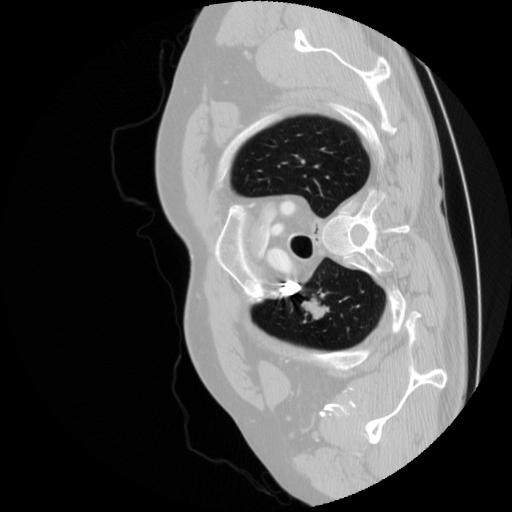nodule: (301, 296, 331, 326)
